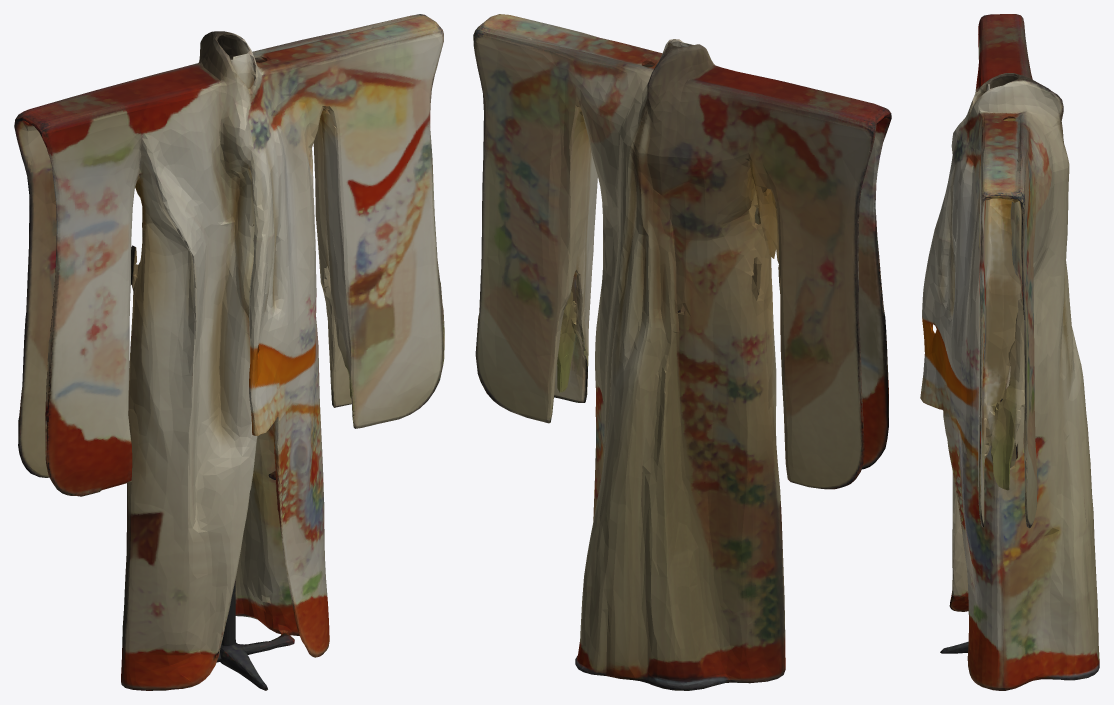
3 views of the same model, side by side, from view 1: azimuth 30°, elevation 25°; view 2: azimuth 150°, elevation 25°; view 3: azimuth 270°, elevation 25° (orthographic). The views are drawn at different scales.
Visible parts, largest first — view 1: world; view 2: world; view 3: world.
Boxes of the visible parts, <box> form: world: <box>14,14,444,690</box>; world: <box>473,14,891,690</box>; world: <box>920,14,1099,690</box>.
Bounding box in the file's own units: 0.6866 × 1 × 0.2824.
Materials: 1 (1 with a texture image).
